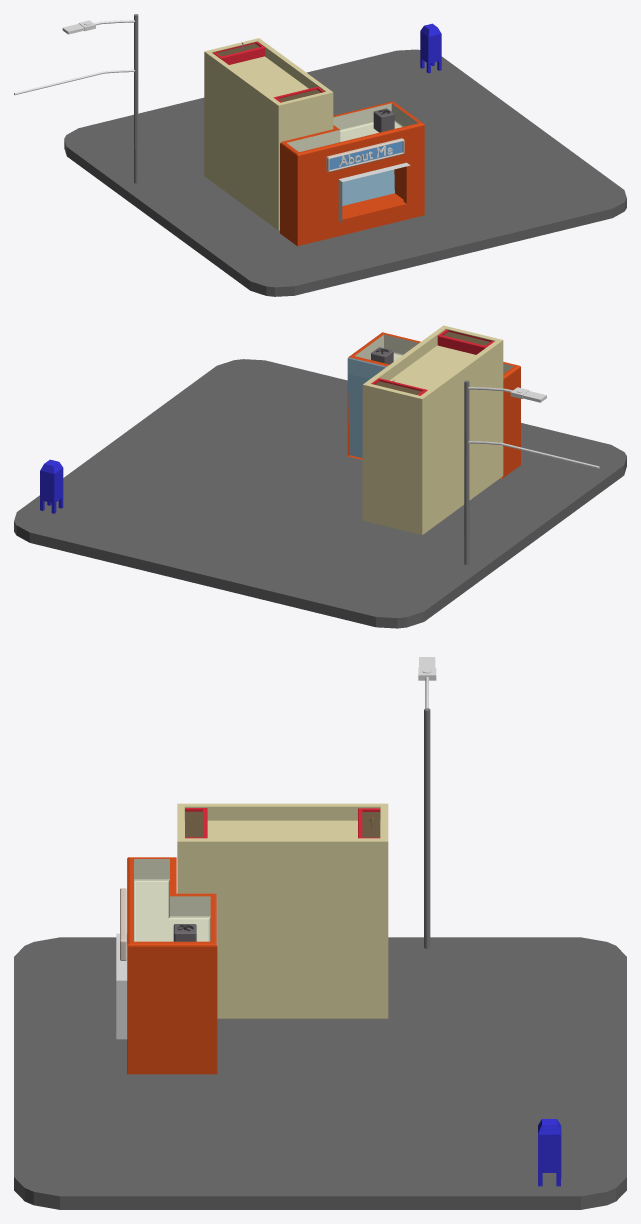
The model's file is PortfolioBlock.glb.
The picture shows the model from 3 angles, top to bottom: view 1: azimuth 30°, elevation 25°; view 2: azimuth 150°, elevation 25°; view 3: azimuth 270°, elevation 25°; orthographic projection. The views are drawn at different scales.
Visible parts, largest first — view 1: Sidewalk, Cube.001, Cube.002, Sign Frame, Cube.003, Vertical Lamp Beam, Planter.001, Cube.005, Cube.004; view 2: Sidewalk, Cube.001, Cube.002, Cube.003, Vertical Lamp Beam, Planter; view 3: Sidewalk, Cube.001, Cube.002, Vertical Lamp Beam, Cube.003, Cube.005.
Boxes of the visible parts, x1,y1,x2,y2 form: Sidewalk: [64, 49, 626, 296]; Cube.001: [204, 38, 333, 230]; Cube.002: [280, 101, 424, 246]; Sign Frame: [326, 138, 404, 172]; Cube.003: [420, 23, 441, 73]; Vertical Lamp Beam: [134, 14, 138, 183]; Planter.001: [213, 41, 265, 64]; Cube.005: [338, 162, 410, 222]; Cube.004: [373, 108, 394, 132]; Sidewalk: [14, 359, 626, 628]; Cube.001: [362, 325, 503, 534]; Cube.002: [347, 332, 520, 478]; Cube.003: [40, 459, 63, 513]; Vertical Lamp Beam: [464, 380, 469, 565]; Planter: [437, 329, 494, 354]; Sidewalk: [14, 937, 626, 1209]; Cube.001: [177, 803, 388, 1018]; Cube.002: [127, 857, 217, 1074]; Vertical Lamp Beam: [424, 708, 430, 948]; Cube.003: [538, 1119, 561, 1186]; Cube.005: [116, 933, 127, 1039].
Bounding box in the file's own units: 43.75 × 15.73 × 34.06.
